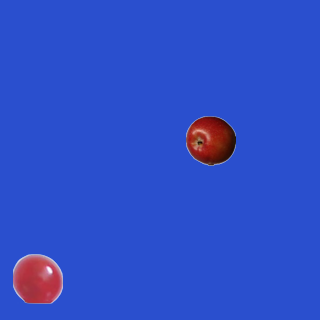Apple Braeburn: (185, 115, 235, 165)
Redcurrant: (12, 253, 62, 303)
